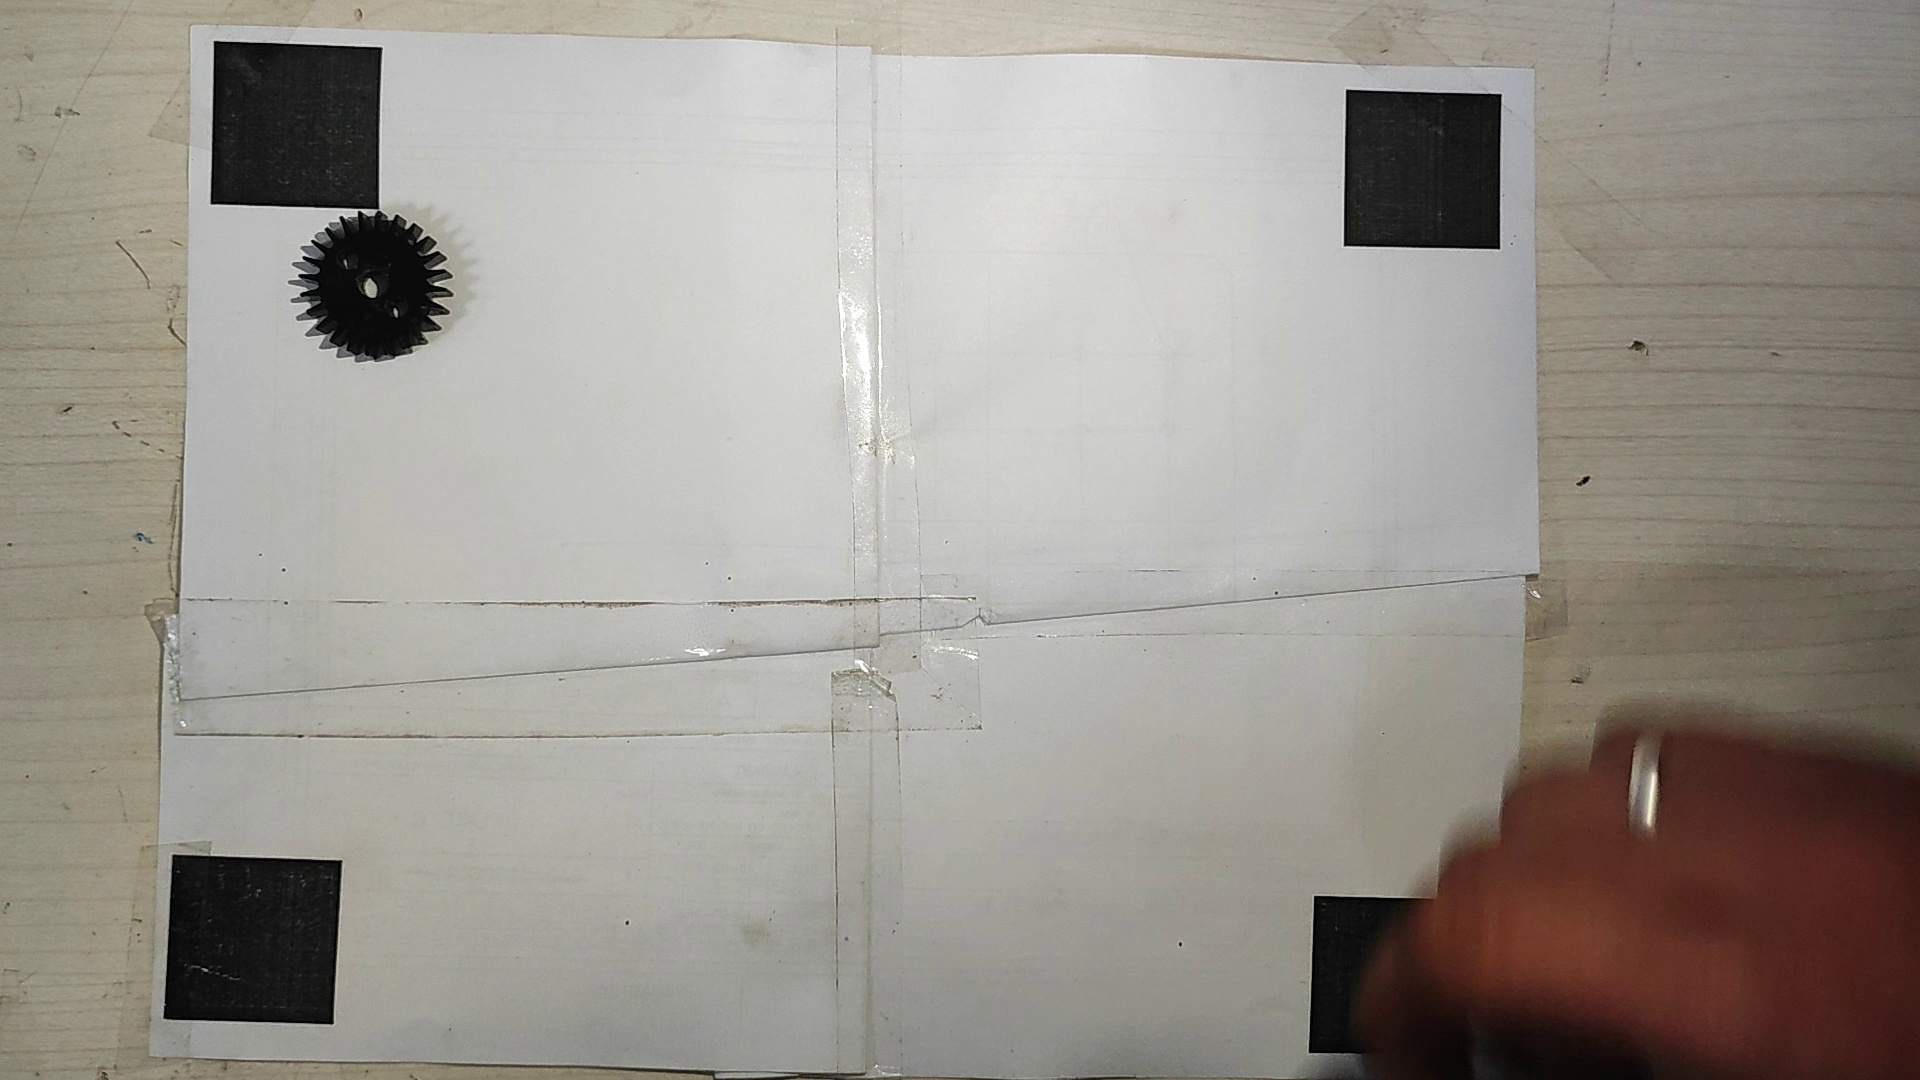Gear: (282, 208, 467, 367)
